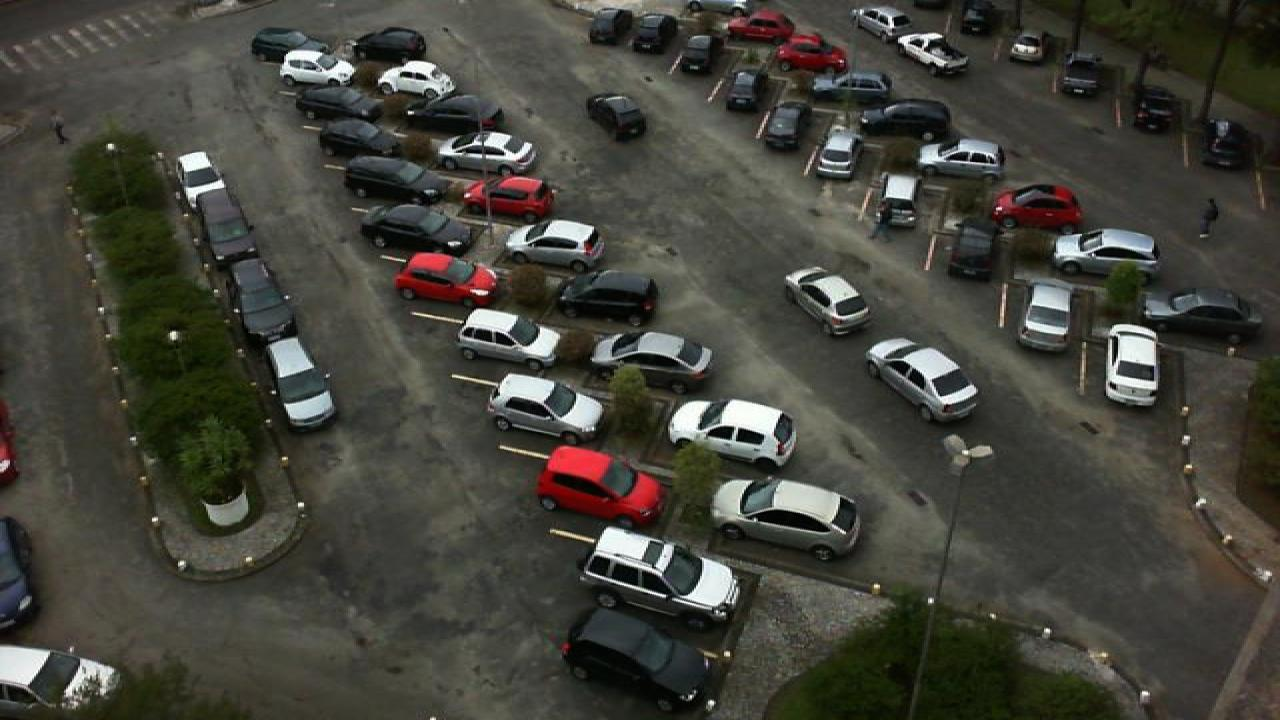Car: (574, 526, 744, 634), (560, 606, 714, 712), (708, 477, 866, 561), (534, 444, 668, 526), (864, 335, 980, 424), (666, 398, 800, 474), (0, 643, 120, 720), (488, 370, 606, 442), (588, 330, 714, 393), (262, 333, 338, 431), (452, 306, 564, 371), (1138, 287, 1266, 343), (782, 266, 874, 338), (1048, 227, 1164, 280), (394, 250, 500, 306), (360, 202, 474, 254), (558, 269, 662, 325), (230, 260, 298, 343), (502, 220, 608, 272), (344, 155, 452, 205), (1104, 322, 1164, 410), (458, 174, 556, 226), (990, 184, 1086, 236), (196, 189, 262, 264), (438, 129, 538, 178), (1014, 280, 1074, 354), (314, 114, 412, 158), (406, 94, 500, 138), (916, 138, 1008, 182), (374, 58, 458, 104), (862, 99, 954, 141), (948, 218, 1002, 282), (584, 92, 650, 144), (292, 84, 382, 122), (896, 29, 970, 74), (246, 26, 330, 65), (278, 50, 358, 90), (776, 37, 852, 77), (354, 26, 428, 67), (756, 101, 806, 154), (1202, 120, 1254, 170), (726, 9, 798, 45), (878, 174, 924, 229), (176, 151, 228, 199), (810, 130, 858, 182), (820, 71, 890, 106), (1130, 85, 1178, 134), (1058, 49, 1106, 98), (852, 6, 914, 42), (670, 34, 718, 78), (630, 11, 678, 55), (584, 9, 632, 51), (722, 70, 764, 112), (1004, 30, 1048, 66), (960, 0, 1000, 37)
